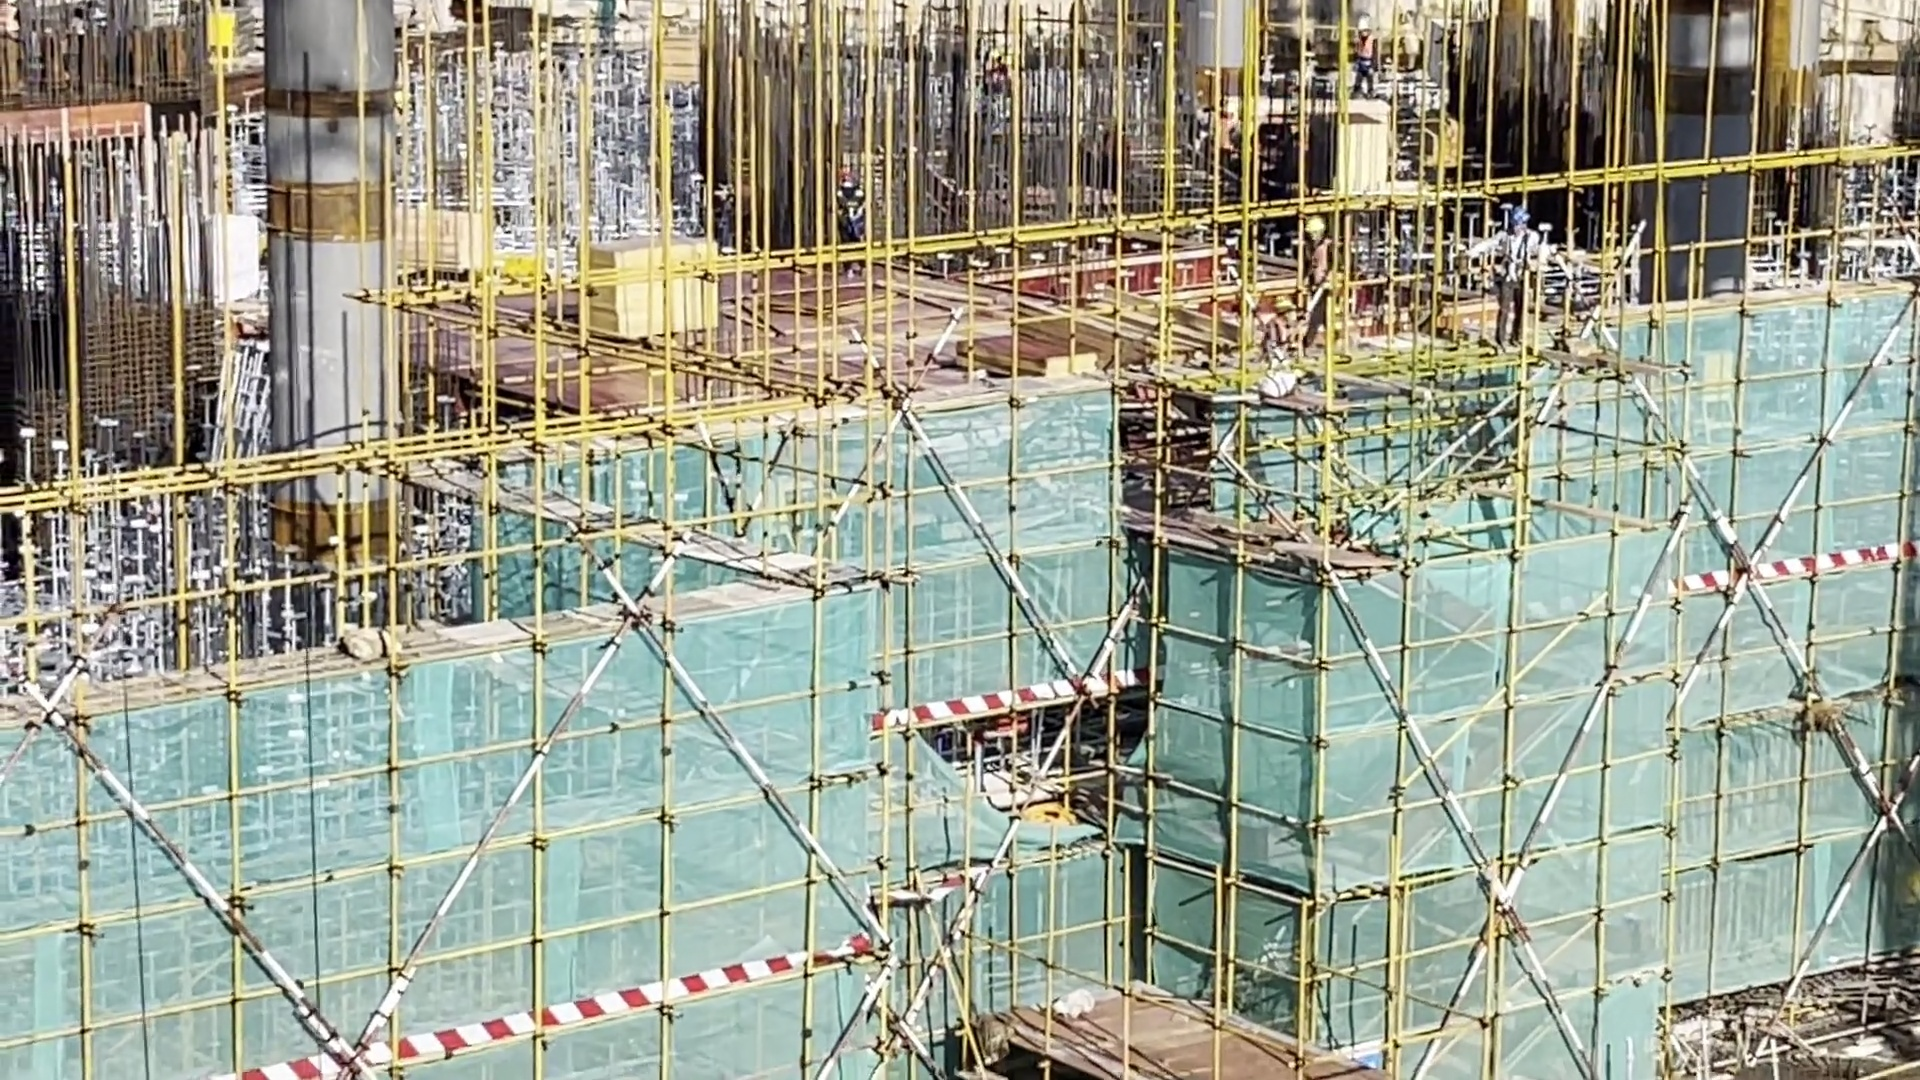helmet: (1303, 216, 1331, 236), (1275, 293, 1298, 315), (1509, 207, 1527, 231), (1231, 99, 1243, 121), (688, 169, 701, 188), (1357, 19, 1370, 33), (839, 177, 853, 186)
person: (1299, 208, 1353, 349), (1495, 206, 1536, 343), (682, 161, 737, 261), (844, 176, 879, 275), (1348, 13, 1381, 100), (1271, 291, 1297, 361), (1213, 84, 1234, 164)
vest: (1304, 241, 1331, 316), (1496, 227, 1526, 289), (707, 186, 739, 221), (842, 194, 860, 238), (1274, 319, 1293, 356), (1223, 117, 1242, 154), (1355, 31, 1373, 68)
